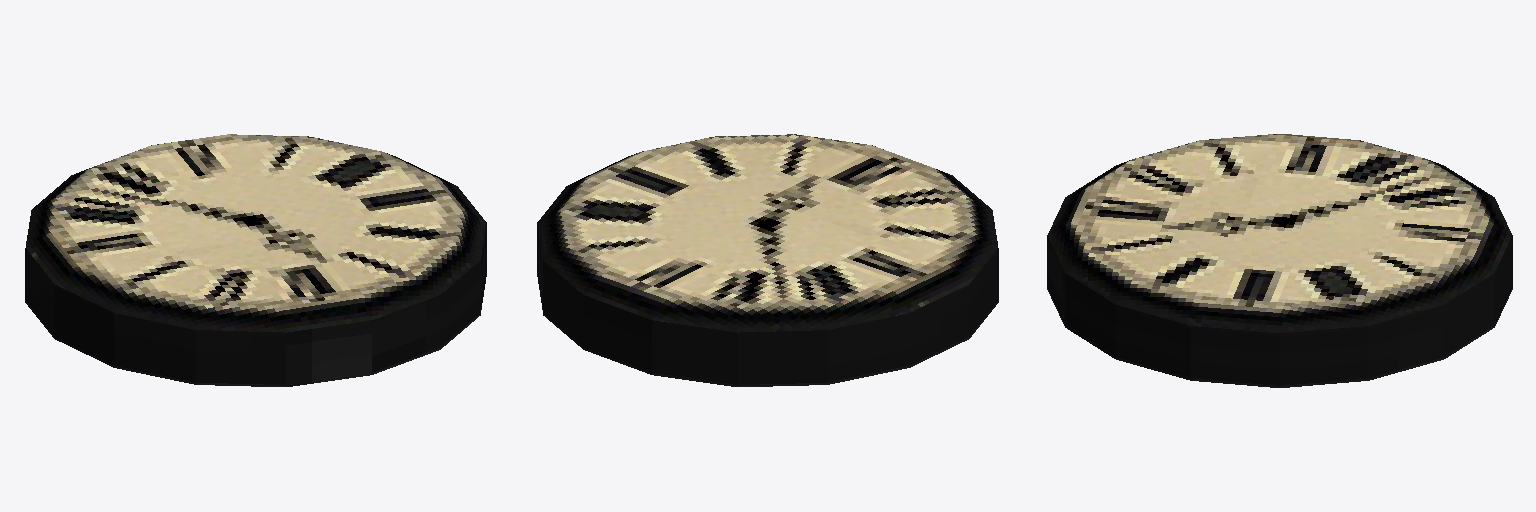
The picture shows the model from 3 angles: view 1: azimuth 30°, elevation 25°; view 2: azimuth 150°, elevation 25°; view 3: azimuth 270°, elevation 25°; orthographic projection.
Visible parts, largest first — view 1: Cylinder; view 2: Cylinder; view 3: Cylinder.
Boxes of the visible parts, <box> form: Cylinder: <box>25,134,486,386</box>; Cylinder: <box>537,134,998,386</box>; Cylinder: <box>1047,134,1512,387</box>.
Size of the model in its own units: 2 by 0.3232 by 2.
Materials: 1 (1 with a texture image).